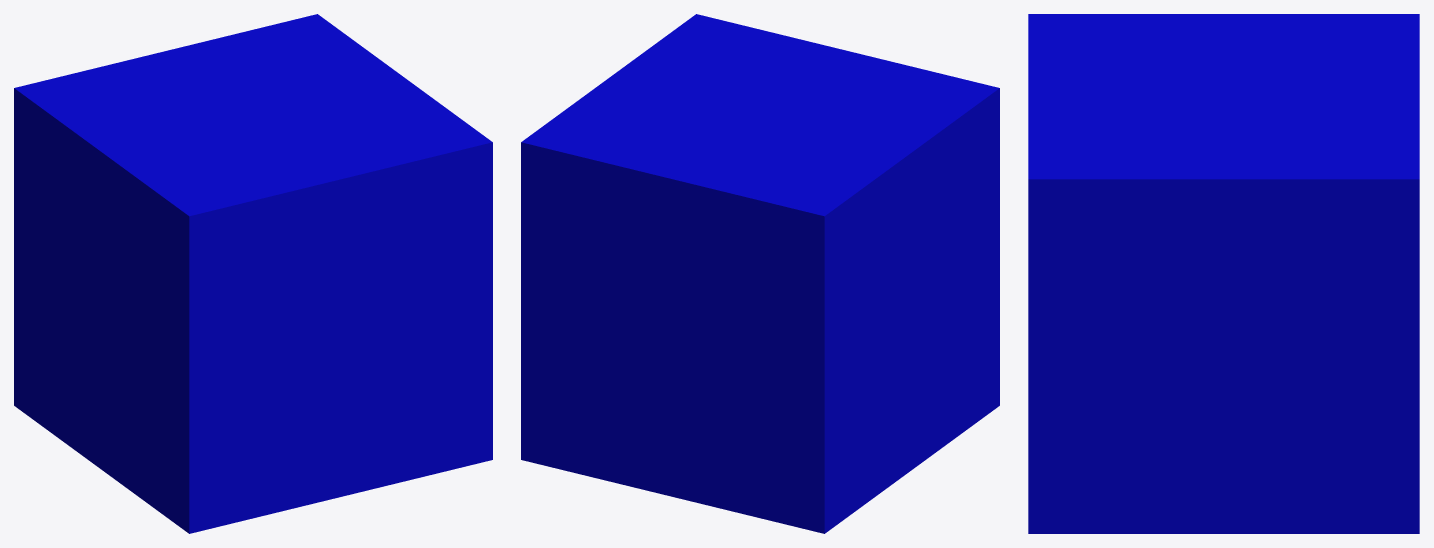
Rendered from YokeEndcap.gltf.
3 renders of one model, left to right at view 1: azimuth 30°, elevation 25°; view 2: azimuth 150°, elevation 25°; view 3: azimuth 270°, elevation 25°, orthographic. The views are drawn at different scales.
Visible parts, largest first — view 1: YokeEndcap; view 2: YokeEndcap; view 3: YokeEndcap.
Boxes of the visible parts, <box> form: YokeEndcap: <box>14,14,492,533</box>; YokeEndcap: <box>521,14,999,533</box>; YokeEndcap: <box>1028,14,1419,533</box>.
Bounding box in the file's own units: 60000 × 60000 × 60000.
